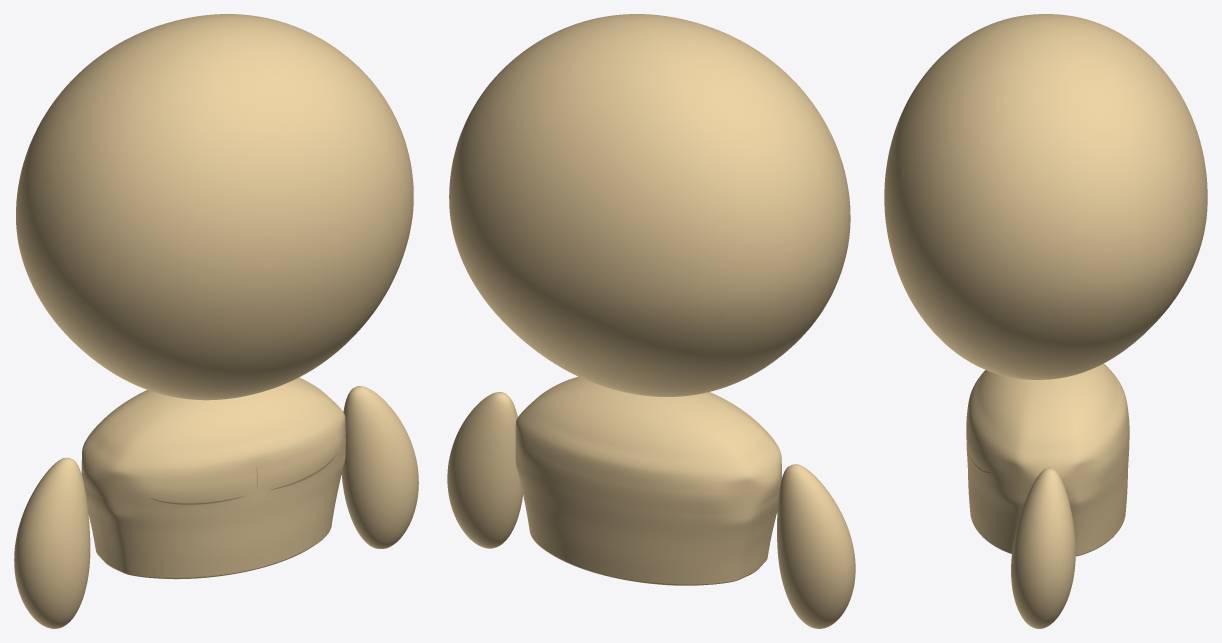
The model's file is Masculine-pants-shirtless-base.glb.
3 renders of one model, left to right at view 1: azimuth 30°, elevation 25°; view 2: azimuth 150°, elevation 25°; view 3: azimuth 270°, elevation 25°, orthographic. The views are drawn at different scales.
Visible parts, largest first — view 1: Skin / soft oval head, Skin / rounded torso, Skin / swept arm -1, Skin / swept arm 1; view 2: Skin / soft oval head, Skin / rounded torso, Skin / swept arm -1, Skin / swept arm 1; view 3: Skin / soft oval head, Skin / rounded torso, Skin / swept arm 1.
Boxes of the visible parts, <box> form: Skin / soft oval head: <box>16,14,413,400</box>; Skin / rounded torso: <box>81,377,345,579</box>; Skin / swept arm -1: <box>14,457,90,628</box>; Skin / swept arm 1: <box>341,386,418,548</box>; Skin / soft oval head: <box>449,14,850,396</box>; Skin / rounded torso: <box>515,376,781,585</box>; Skin / swept arm -1: <box>777,464,855,628</box>; Skin / swept arm 1: <box>447,392,522,548</box>; Skin / soft oval head: <box>884,14,1207,379</box>; Skin / rounded torso: <box>966,363,1129,556</box>; Skin / swept arm 1: <box>1011,467,1075,628</box>.
Bounding box in the file's own units: 1.07 × 1.44 × 0.81.
